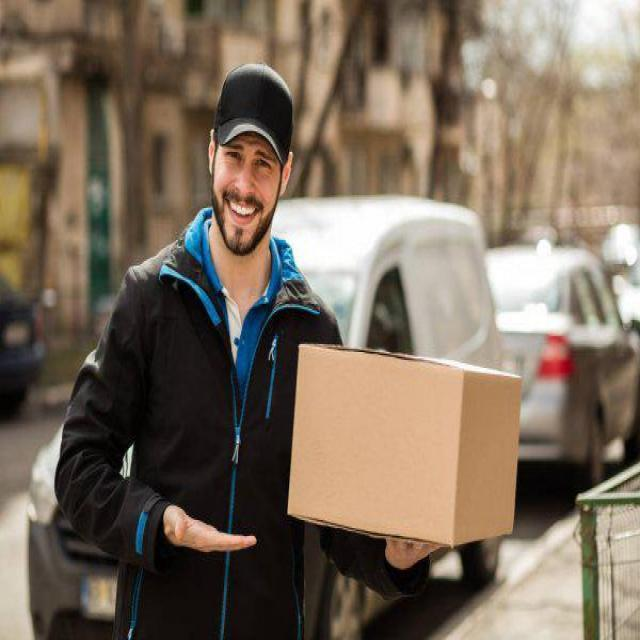box: (284, 322, 527, 562)
